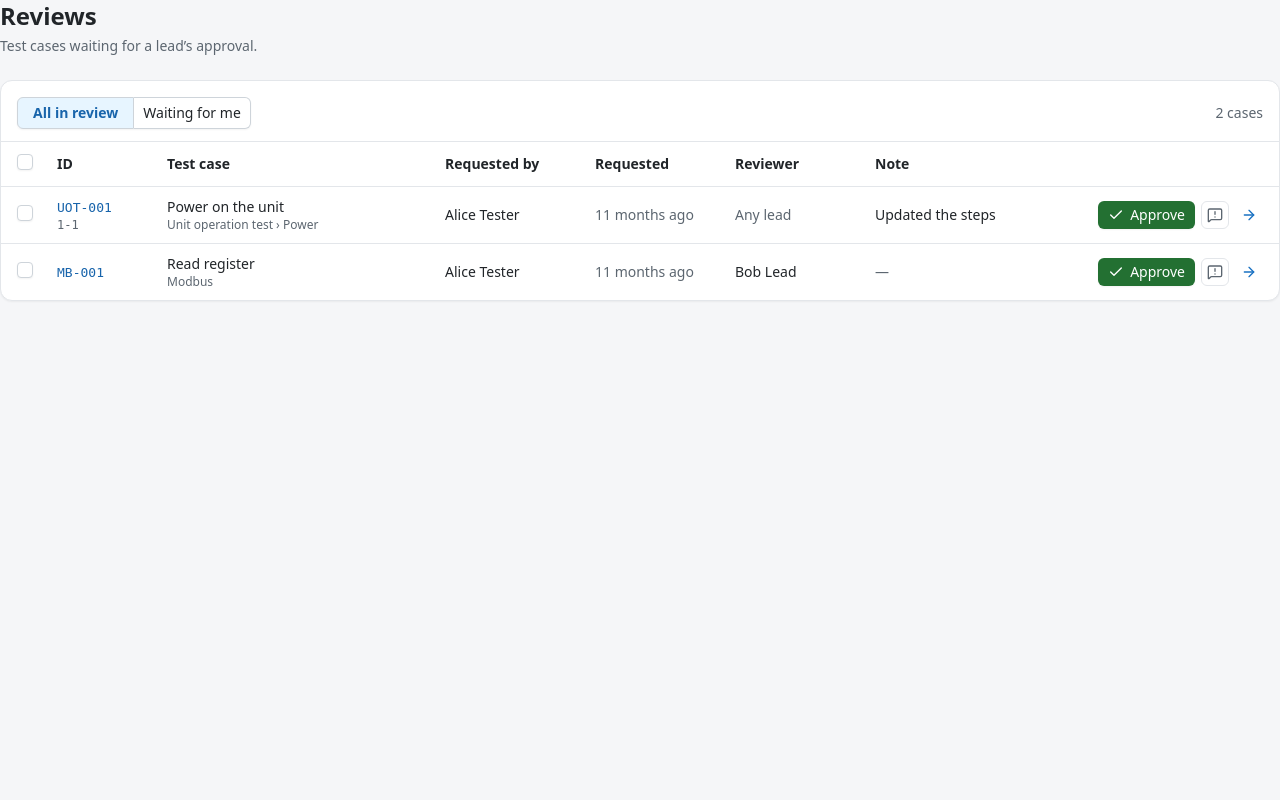
Test: ReviewsPage › approves the selected cases suite by suite
Click the checkbox named "Select UOT-001". click: (25, 213)
box: 17,205 -> 33,221
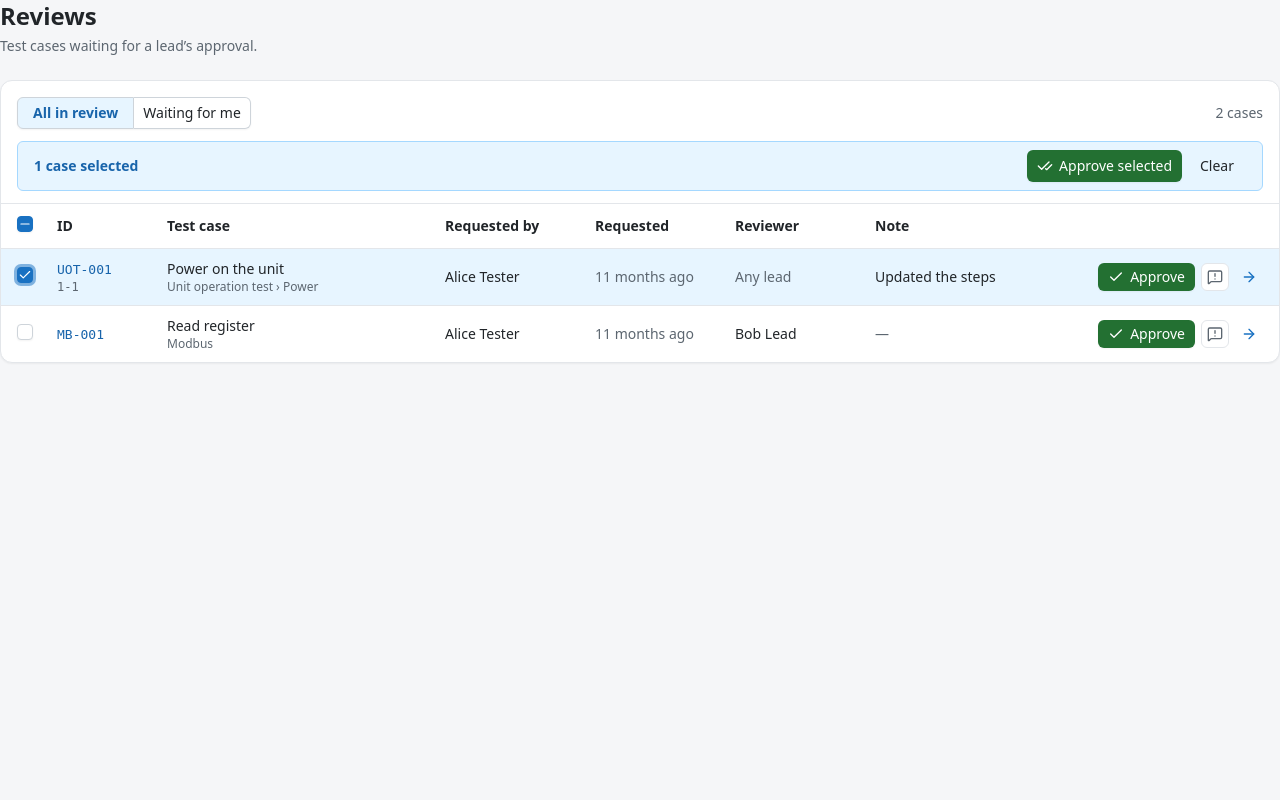
Expected: the checkbox named "Select all cases in the queue" has attribute data-state="indeterminate"
Click the checkbox named "Select all cases in the queue". click: (25, 224)
box: 17,216 -> 33,232
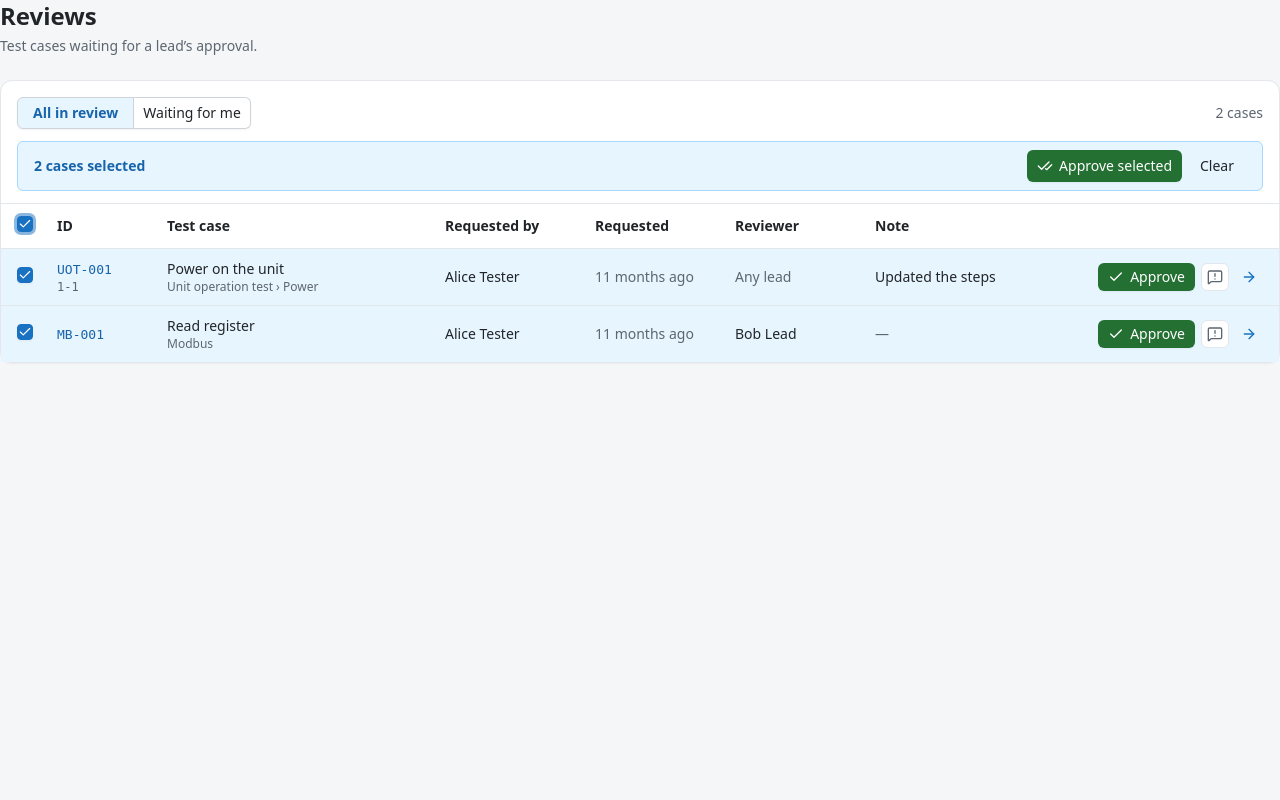
Expected: the text "2 cases selected" is shown, 34,156 -> 145,176
Click the button "Approve selected". click: (1105, 166)
box: 1027,150 -> 1182,182
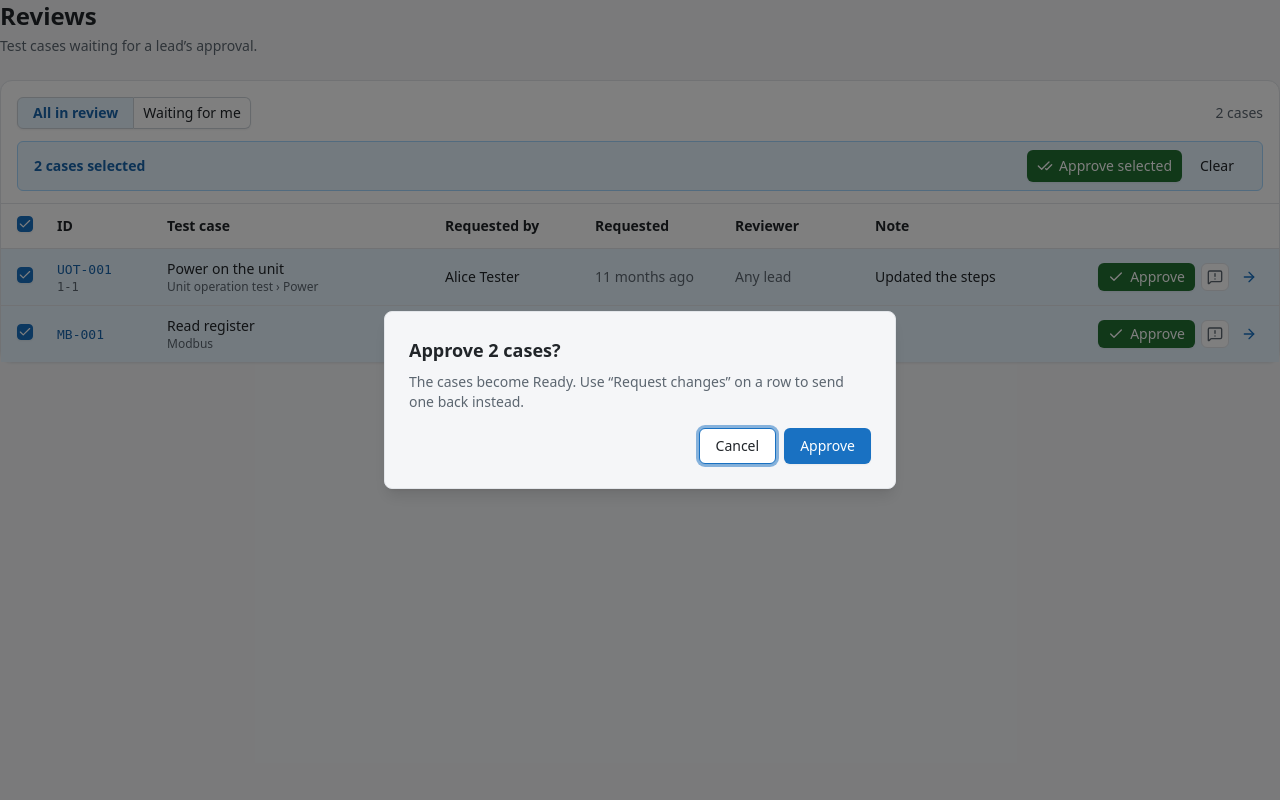
Click the button "Approve". click: (828, 446)
box: 784,428 -> 871,464
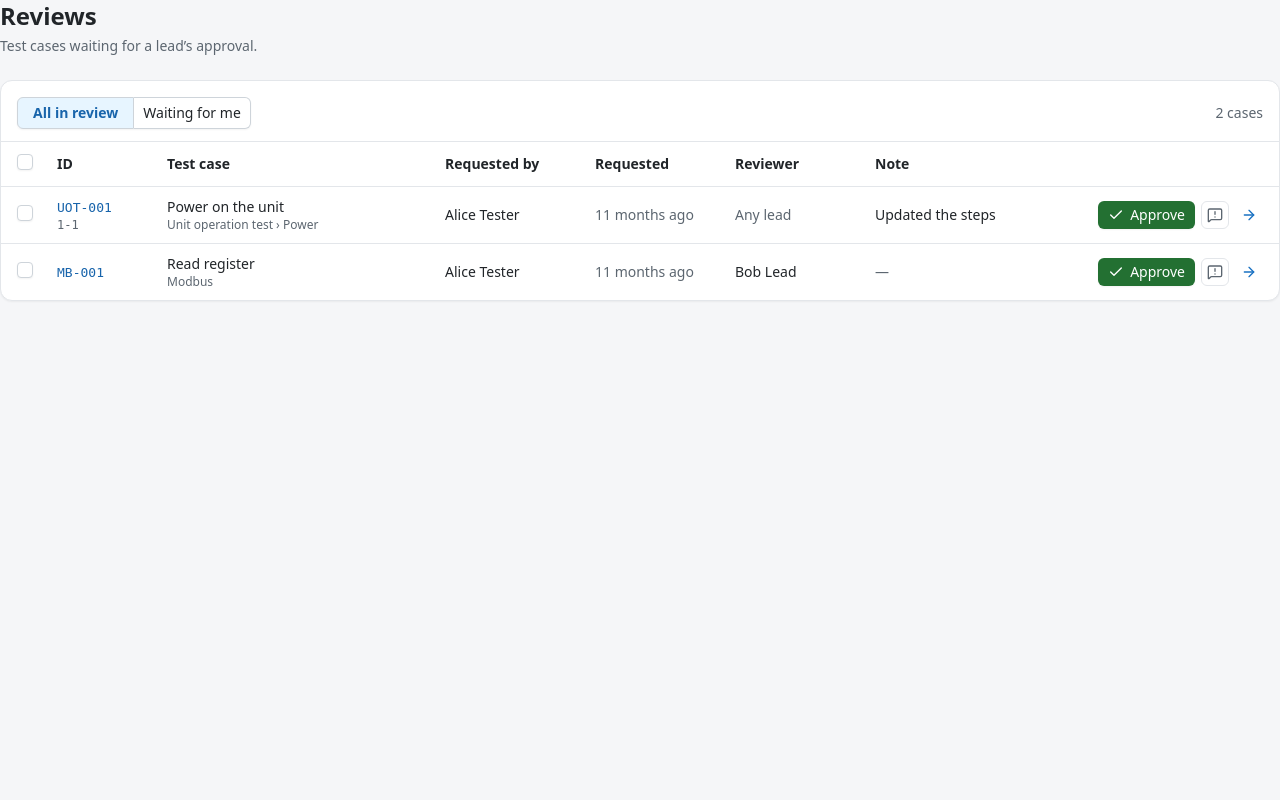
Expected: the text "2 cases selected" is gone
